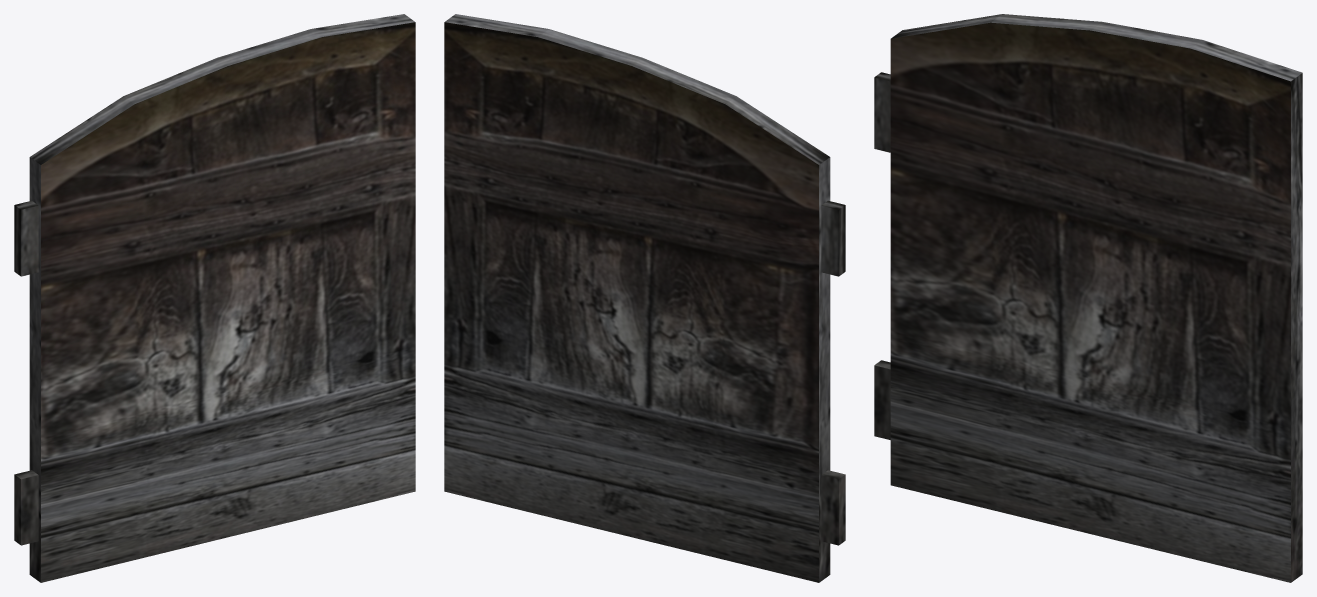
Rendered from saloonDoor.fbx.
3 views of the same model, side by side, from view 1: azimuth 30°, elevation 25°; view 2: azimuth 150°, elevation 25°; view 3: azimuth 330°, elevation 25° (orthographic). The views are drawn at different scales.
Visible parts, largest first — view 1: Cube; view 2: Cube; view 3: Cube.
Boxes of the visible parts, <box> form: Cube: <box>14,14,415,582</box>; Cube: <box>444,14,845,582</box>; Cube: <box>874,14,1302,582</box>.
Size of the model in its own units: 209 by 243 by 10.31.
1 material, 1 textured.
